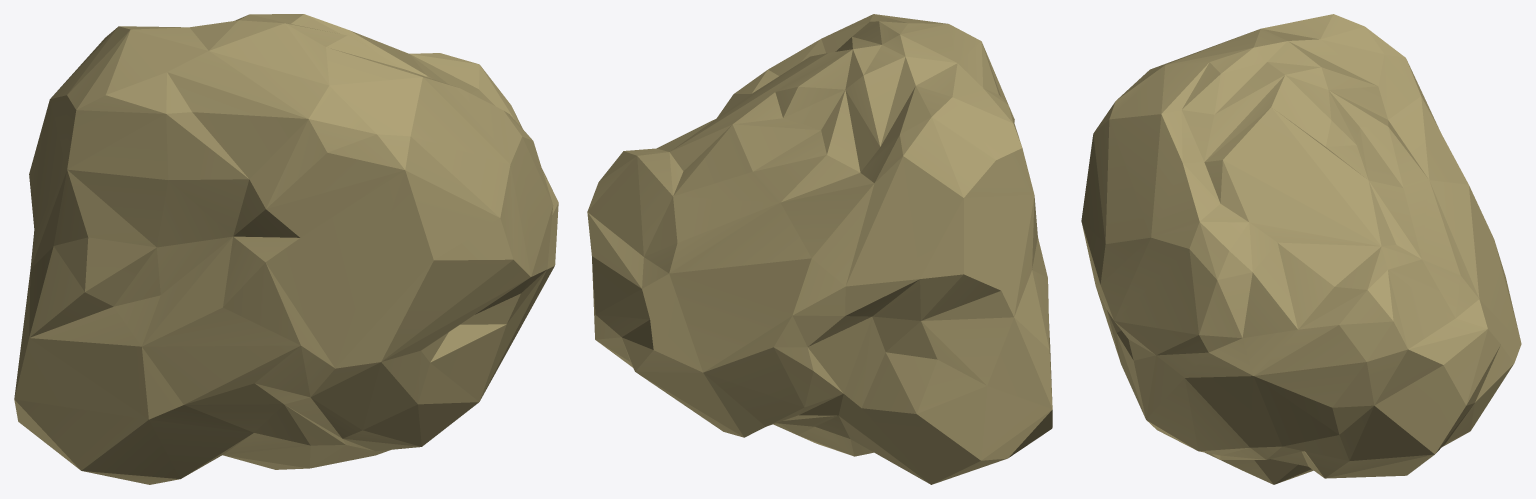
File: SM_rock_86.fbx
3 views of the same model, side by side, from view 1: azimuth 30°, elevation 25°; view 2: azimuth 150°, elevation 25°; view 3: azimuth 270°, elevation 25° (orthographic). The views are drawn at different scales.
Visible parts, largest first — view 1: rock_86; view 2: rock_86; view 3: rock_86.
Boxes of the visible parts, x1,y1,x2,y2 form: rock_86: [14, 14, 558, 484]; rock_86: [587, 14, 1052, 484]; rock_86: [1081, 14, 1521, 484].
Bounding box in the file's own units: 219 × 192 × 187.
